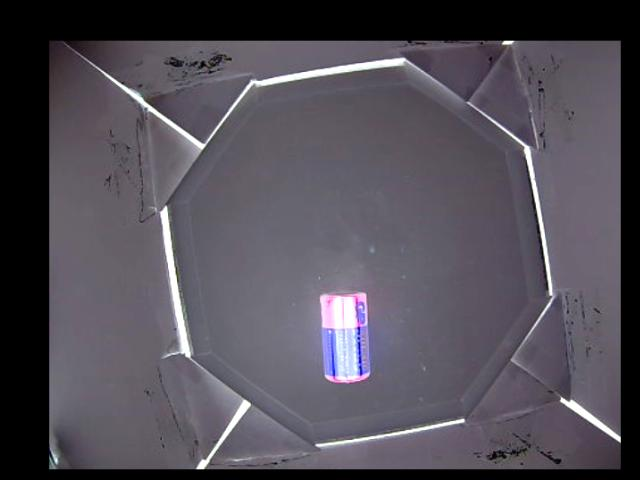Battery: (323, 289, 369, 384)
